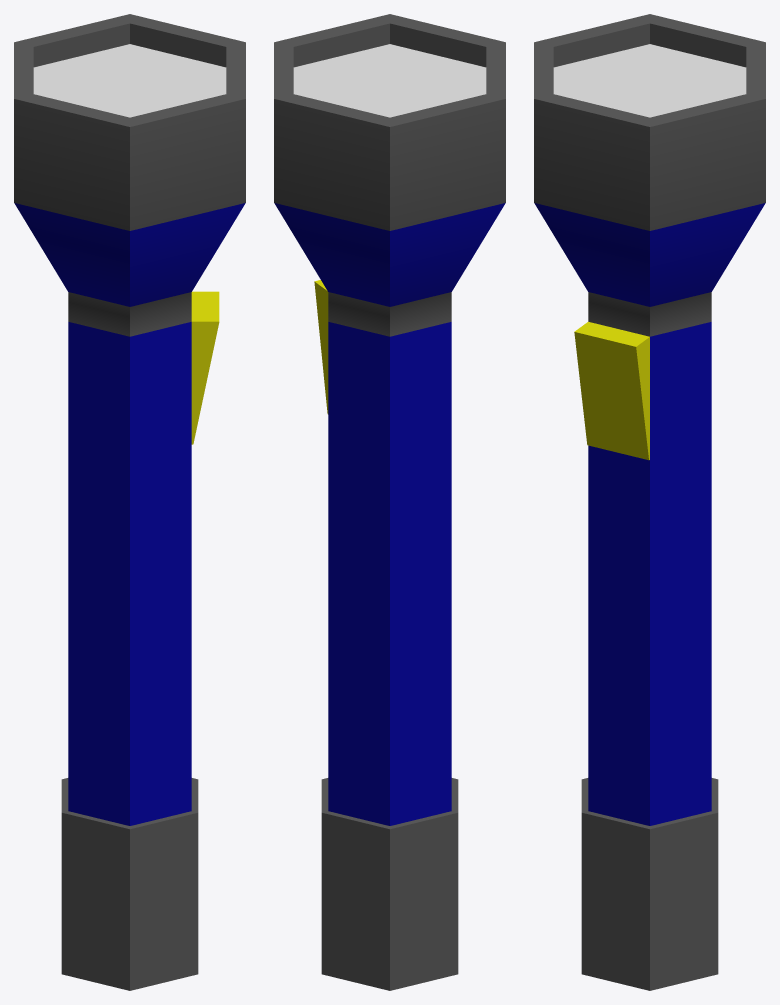
File: Linterna.fbx
3 renders of one model, left to right at view 1: azimuth 30°, elevation 25°; view 2: azimuth 150°, elevation 25°; view 3: azimuth 270°, elevation 25°, orthographic.
Visible parts, largest first — view 1: pCylinder1; view 2: pCylinder1; view 3: pCylinder1.
Part boxes in pixels (x1,y1,x2,y2): pCylinder1: (14,14,245,990); pCylinder1: (274,14,505,990); pCylinder1: (534,14,765,990).
Bounding box in the file's own units: 13.12 × 48 × 11.37.
